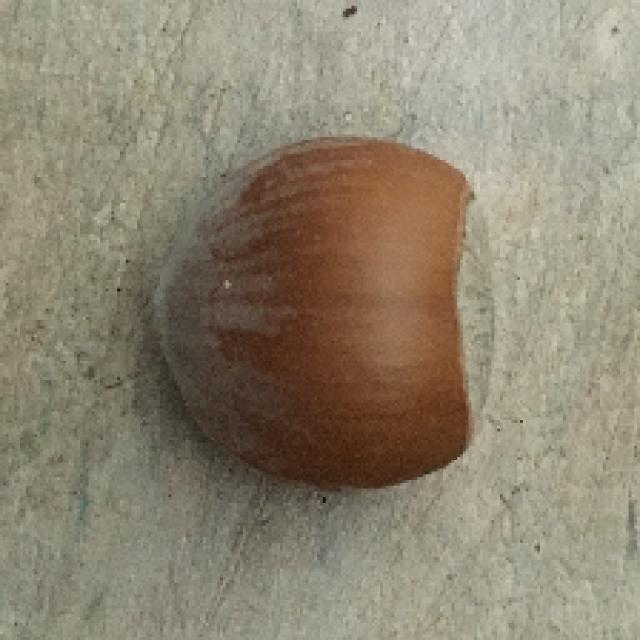QualityHazelnut: (153, 135, 502, 486)
